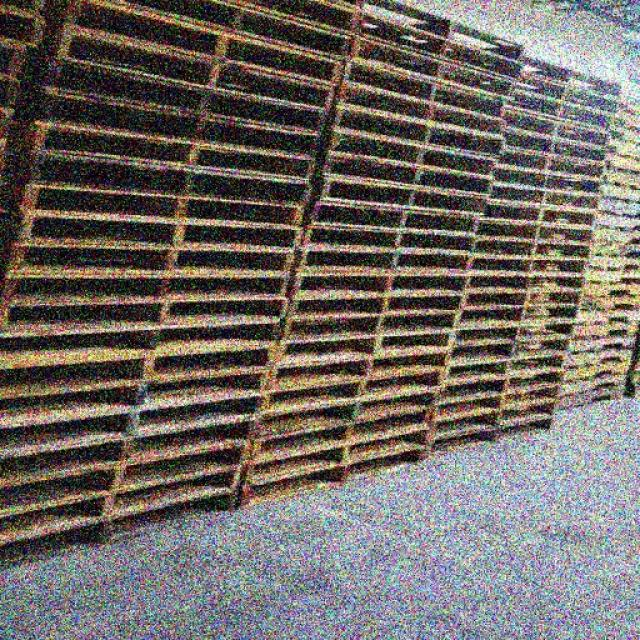non-igps: (45, 22, 341, 114), (60, 0, 352, 93), (35, 54, 334, 138), (0, 482, 243, 580), (0, 456, 251, 544), (0, 406, 268, 486), (0, 433, 258, 515), (35, 89, 328, 160), (0, 380, 270, 456), (0, 358, 278, 429), (20, 118, 320, 182), (0, 329, 285, 396), (95, 0, 360, 70), (20, 148, 319, 210), (0, 308, 300, 365), (235, 434, 435, 514), (12, 177, 312, 230), (10, 202, 309, 255), (346, 8, 527, 92), (340, 28, 520, 108), (241, 418, 437, 489), (0, 286, 300, 332), (0, 260, 296, 306), (338, 49, 520, 122), (254, 360, 453, 424), (246, 401, 437, 467), (353, 0, 528, 71), (252, 381, 443, 445), (326, 100, 510, 166), (0, 238, 302, 278), (334, 75, 511, 141), (322, 122, 502, 180), (317, 146, 498, 198), (262, 343, 452, 392), (302, 195, 486, 238), (316, 172, 493, 215), (269, 330, 457, 369), (215, 0, 369, 46), (284, 266, 474, 301), (429, 414, 560, 464), (508, 65, 622, 122), (501, 101, 611, 156), (502, 85, 616, 138), (514, 50, 627, 103), (496, 121, 610, 170), (292, 247, 476, 277), (299, 224, 483, 254), (284, 289, 466, 319), (492, 141, 610, 187), (428, 384, 566, 423), (430, 400, 563, 440), (277, 311, 460, 340), (488, 160, 606, 202), (436, 367, 568, 404), (471, 214, 597, 251), (482, 178, 604, 216), (470, 230, 596, 266), (479, 198, 599, 235), (448, 337, 580, 368), (442, 352, 573, 383), (465, 250, 592, 281), (452, 321, 580, 348), (454, 302, 582, 325), (552, 381, 629, 417), (466, 270, 588, 291), (554, 369, 630, 401), (557, 357, 635, 388), (558, 345, 636, 373), (462, 290, 588, 307), (564, 329, 639, 356), (566, 317, 640, 343), (570, 302, 640, 328), (574, 290, 640, 314), (595, 157, 640, 192), (588, 218, 640, 248), (576, 278, 640, 302), (582, 232, 640, 258), (599, 127, 640, 163), (581, 263, 640, 287), (593, 178, 640, 207), (592, 192, 640, 220), (584, 249, 640, 272), (601, 145, 640, 178), (591, 208, 640, 234), (601, 117, 640, 147), (610, 104, 640, 133), (609, 91, 640, 119)
